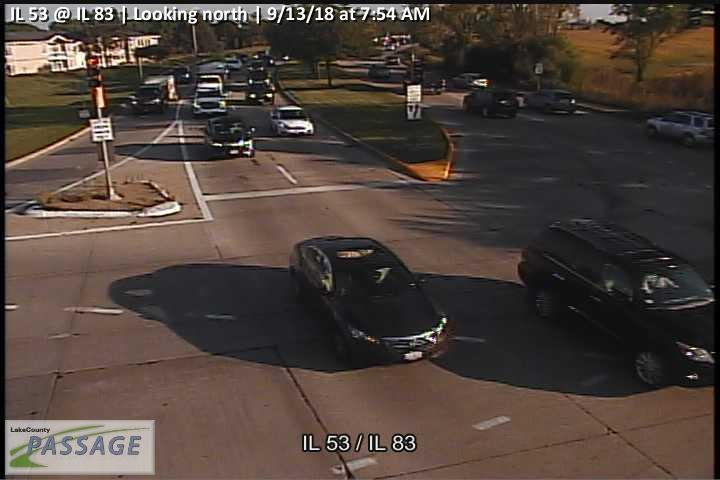SUV: (516, 219, 720, 392), (646, 109, 718, 147), (205, 115, 255, 157), (462, 89, 520, 118), (522, 88, 576, 115), (133, 83, 168, 115), (402, 71, 446, 95), (193, 88, 226, 117)
Sedan: (288, 235, 450, 364), (270, 105, 314, 135), (452, 73, 488, 89), (245, 88, 275, 105), (197, 75, 223, 94), (248, 70, 272, 90), (368, 64, 390, 79), (225, 57, 242, 69)
